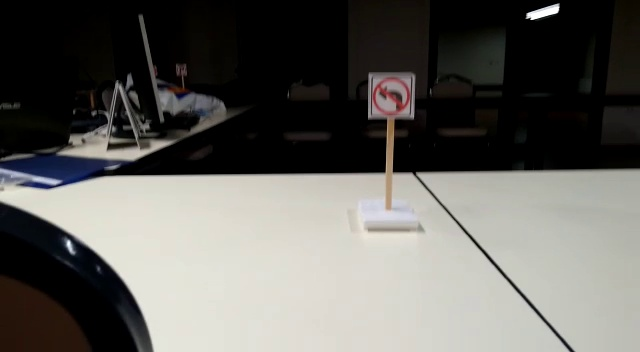sola_donulmez: (367, 74, 413, 116)
